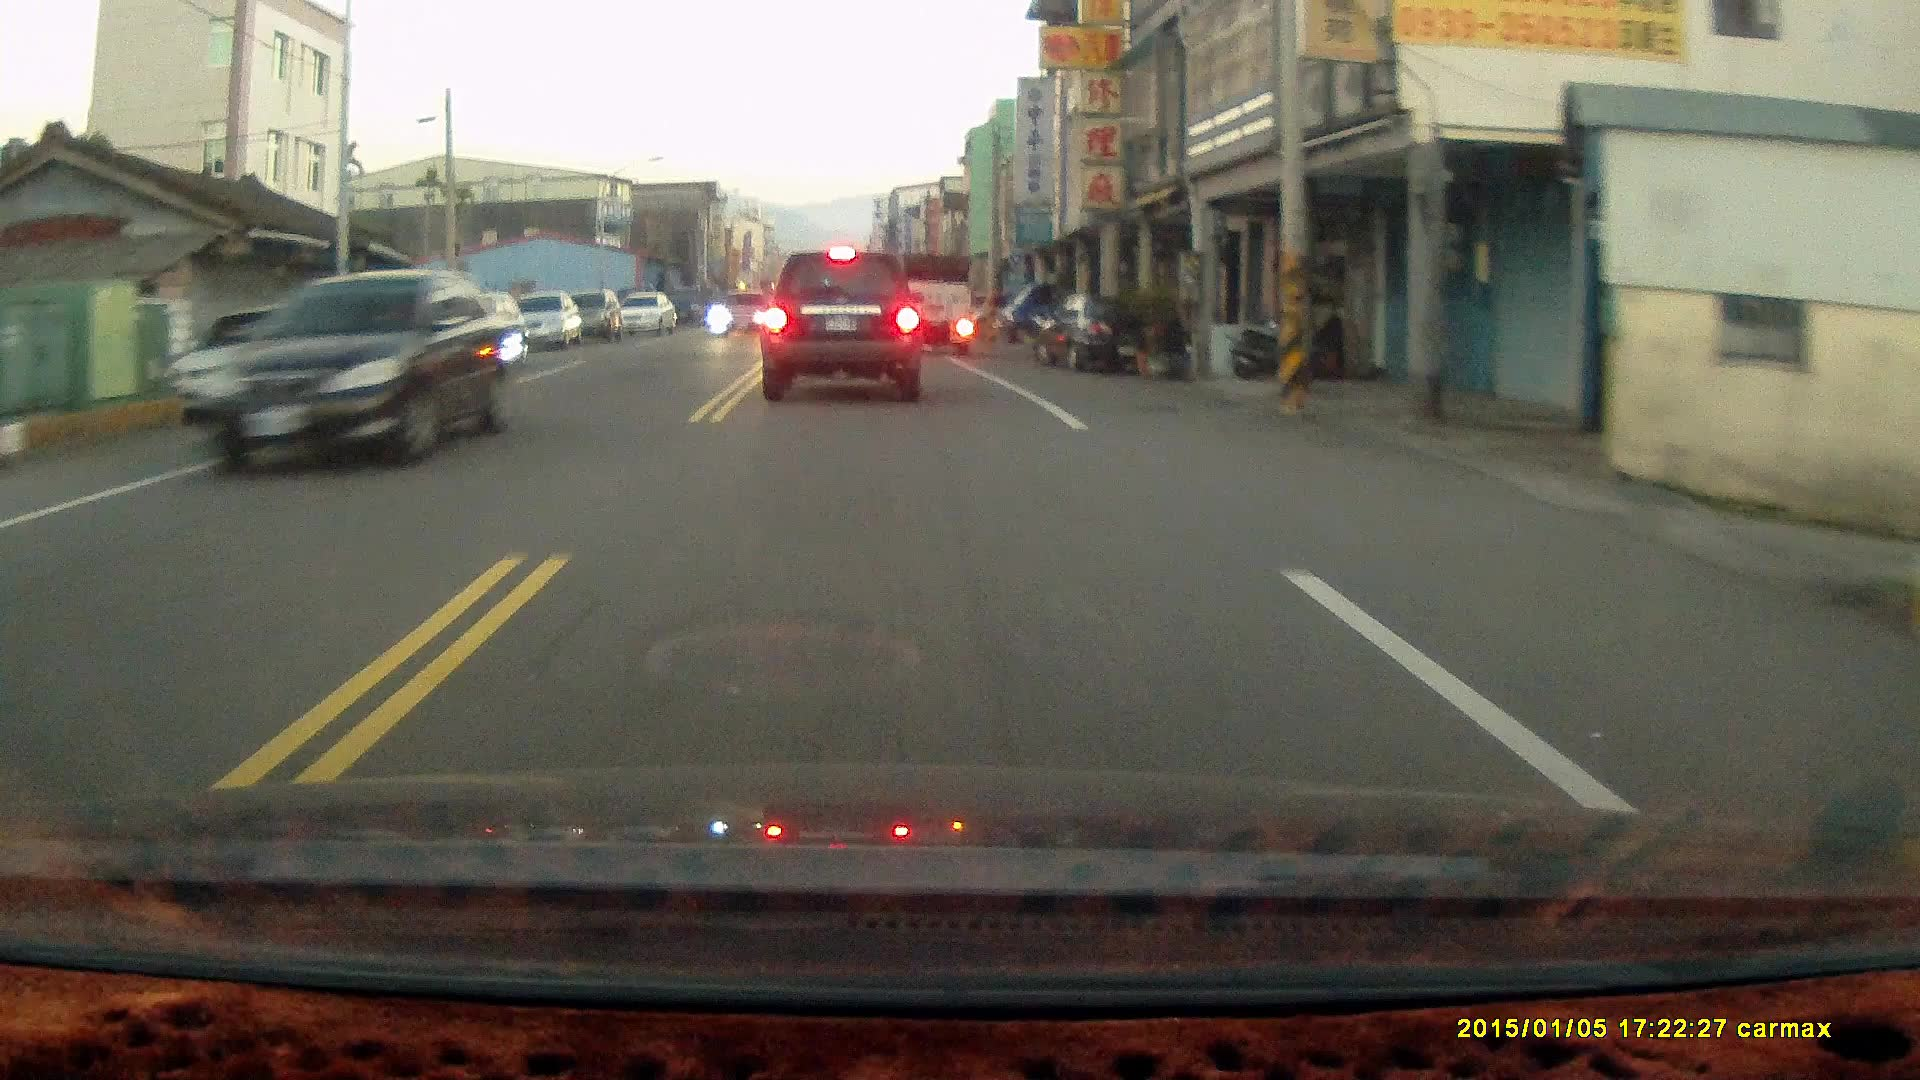vehicle: (195, 268, 513, 473), (760, 248, 924, 404), (1039, 294, 1172, 375), (891, 255, 978, 363), (505, 291, 583, 349), (553, 291, 625, 343), (708, 290, 778, 339), (615, 291, 679, 336)
